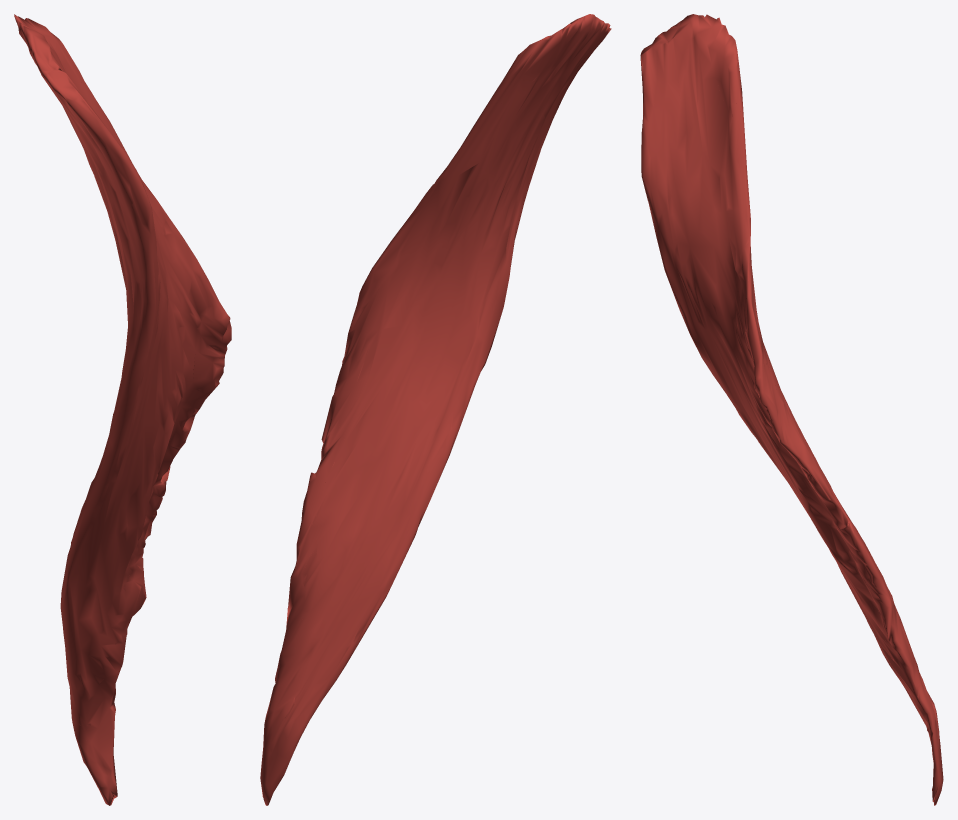
The model's file is musculos-splenius-capitis-muscle-r.glb.
3 views of the same model, side by side, from view 1: azimuth 30°, elevation 25°; view 2: azimuth 150°, elevation 25°; view 3: azimuth 270°, elevation 25° (orthographic). The views are drawn at different scales.
Parts seen in each view (by area): view 1: Splenius capitis muscle.r; view 2: Splenius capitis muscle.r; view 3: Splenius capitis muscle.r.
Boxes of the visible parts, x1=… form: Splenius capitis muscle.r: x1=14, y1=14, x2=231, y2=805; Splenius capitis muscle.r: x1=260, y1=14, x2=611, y2=805; Splenius capitis muscle.r: x1=640, y1=14, x2=943, y2=805.
Size of the model in its own units: 0.0612 by 0.2156 by 0.0843.
